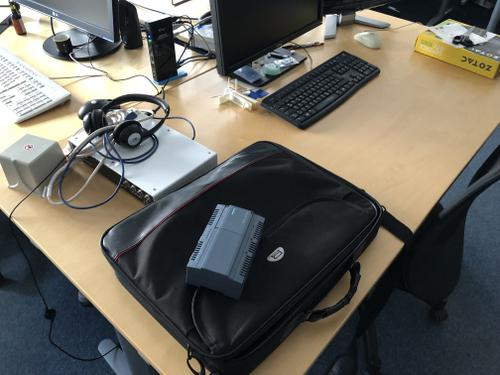device: (187, 204, 266, 301)
